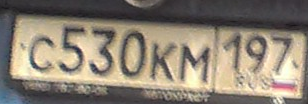character: (116, 26, 146, 79), (57, 22, 86, 75), (179, 42, 211, 86), (89, 25, 116, 77), (267, 29, 292, 76), (150, 41, 177, 83), (28, 34, 56, 73), (244, 29, 267, 73), (221, 30, 245, 72)
